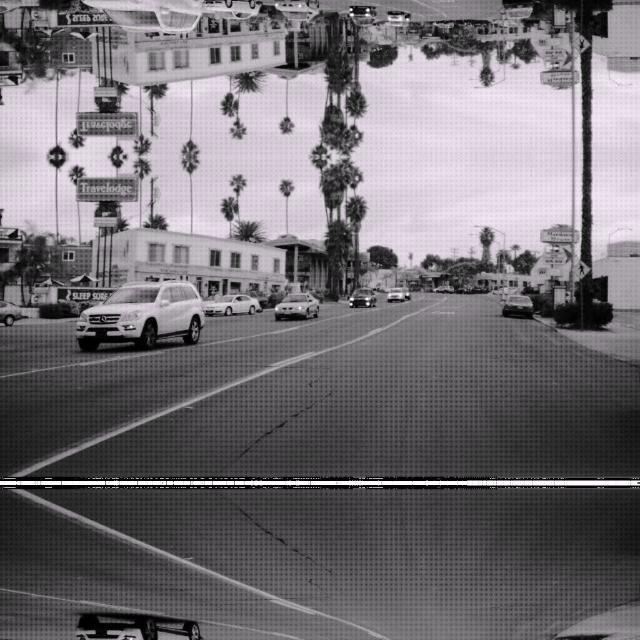pedestrianCrossing: (570, 257, 590, 277), (570, 35, 590, 55)
